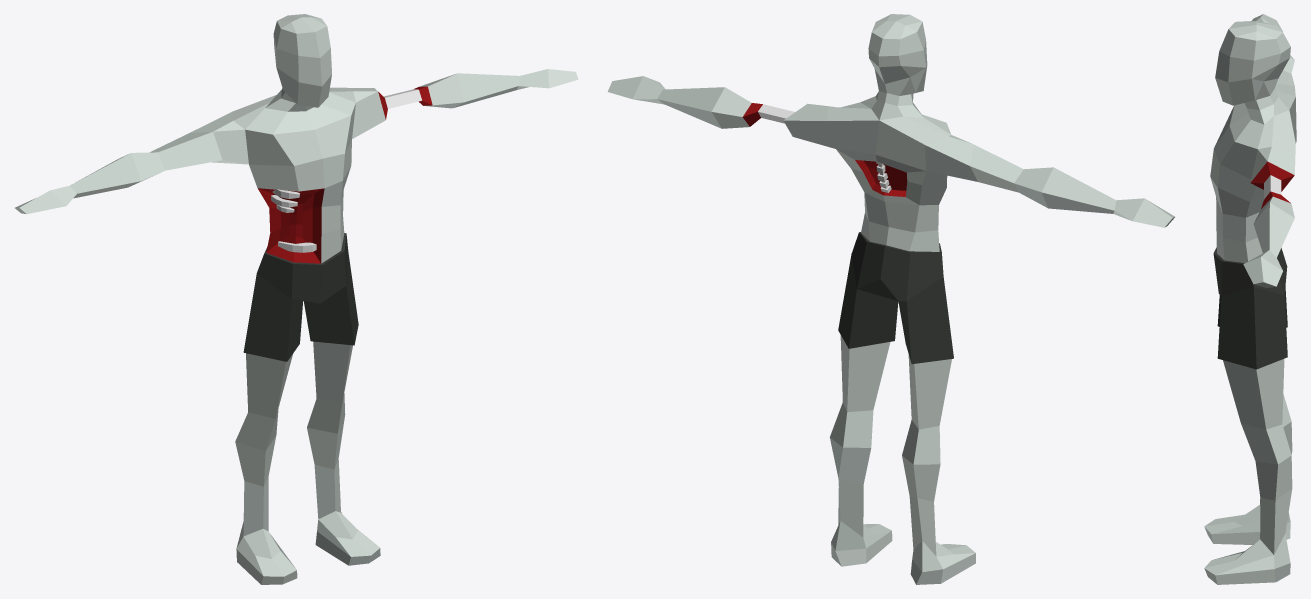
The model's file is Zombie.fbx.
3 views of the same model, side by side, from view 1: azimuth 30°, elevation 25°; view 2: azimuth 150°, elevation 25°; view 3: azimuth 270°, elevation 25° (orthographic). The views are drawn at different scales.
Visible parts, largest first — view 1: BASE_Low Poly Man, BASE_Low Poly Man.001; view 2: BASE_Low Poly Man; view 3: BASE_Low Poly Man.
Boxes of the visible parts, bbox=[...] form: BASE_Low Poly Man: bbox=[15, 14, 578, 584]; BASE_Low Poly Man.001: bbox=[271, 189, 316, 252]; BASE_Low Poly Man: bbox=[607, 14, 1174, 584]; BASE_Low Poly Man: bbox=[1204, 14, 1296, 584].
Size of the model in its own units: 400 by 370 by 58.27.
